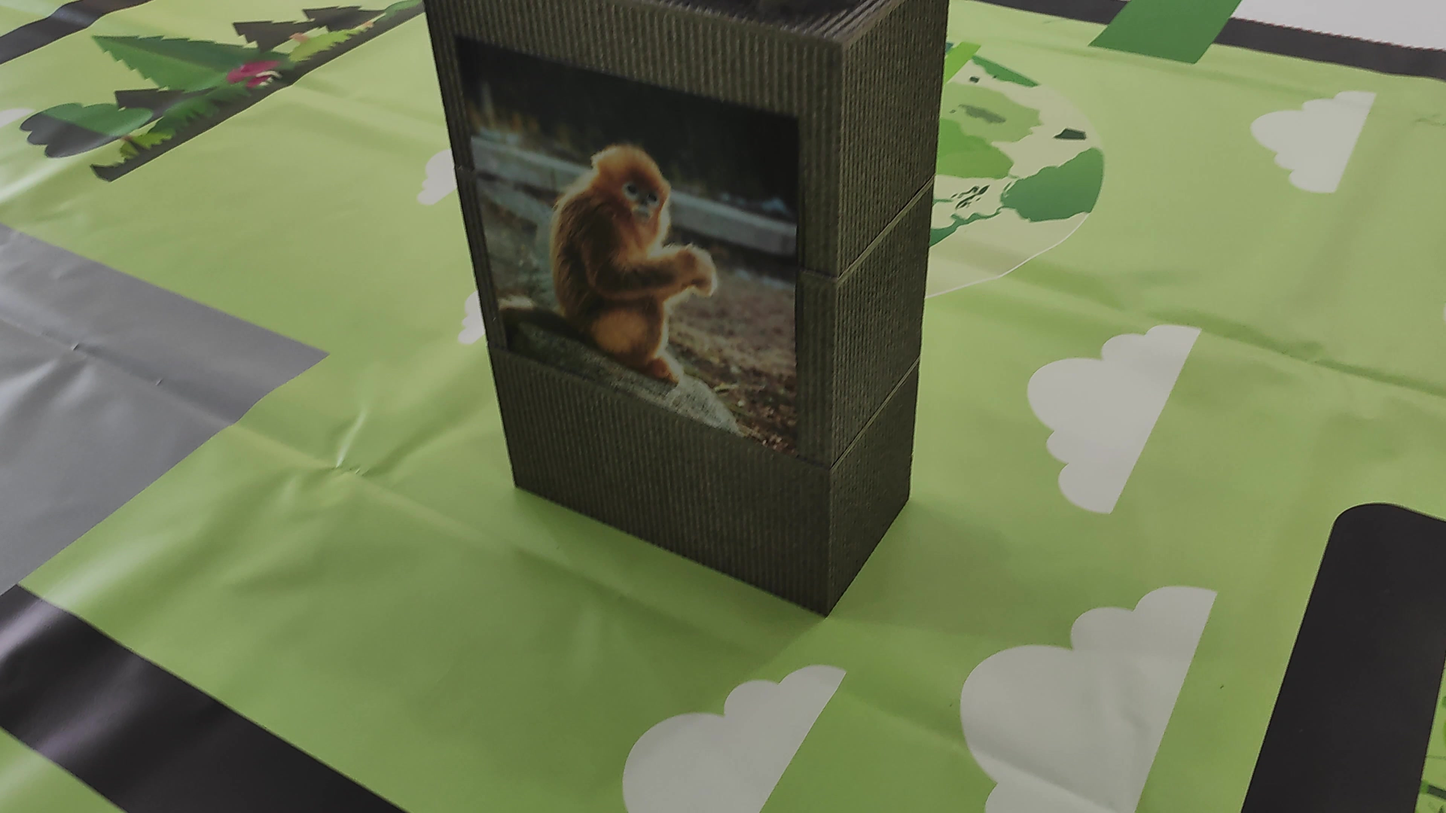monkey: (517, 141, 755, 410)
